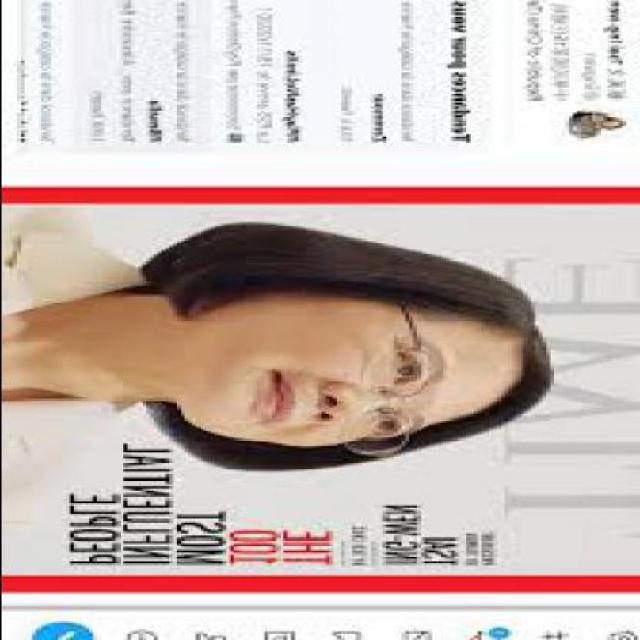PAPER: (3, 189, 639, 597)
